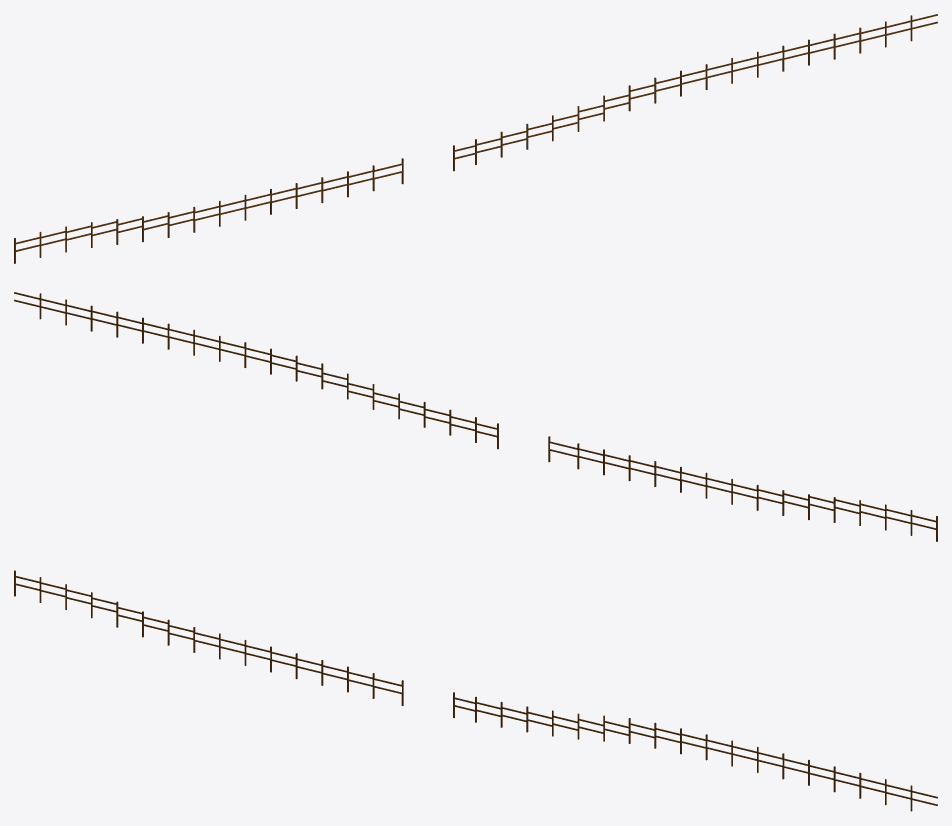
Rendered from fence.glb.
The picture shows the model from 3 angles, top to bottom: view 1: azimuth 30°, elevation 25°; view 2: azimuth 150°, elevation 25°; view 3: azimuth 330°, elevation 25°; orthographic projection.
Visible parts, largest first — view 1: fence; view 2: fence; view 3: fence.
Part boxes in pixels (<box>): fence: <box>14,14,937,263</box>; fence: <box>14,292,937,541</box>; fence: <box>14,570,937,811</box>.
Size of the model in its own units: 454 by 21.32 by 0.583.
